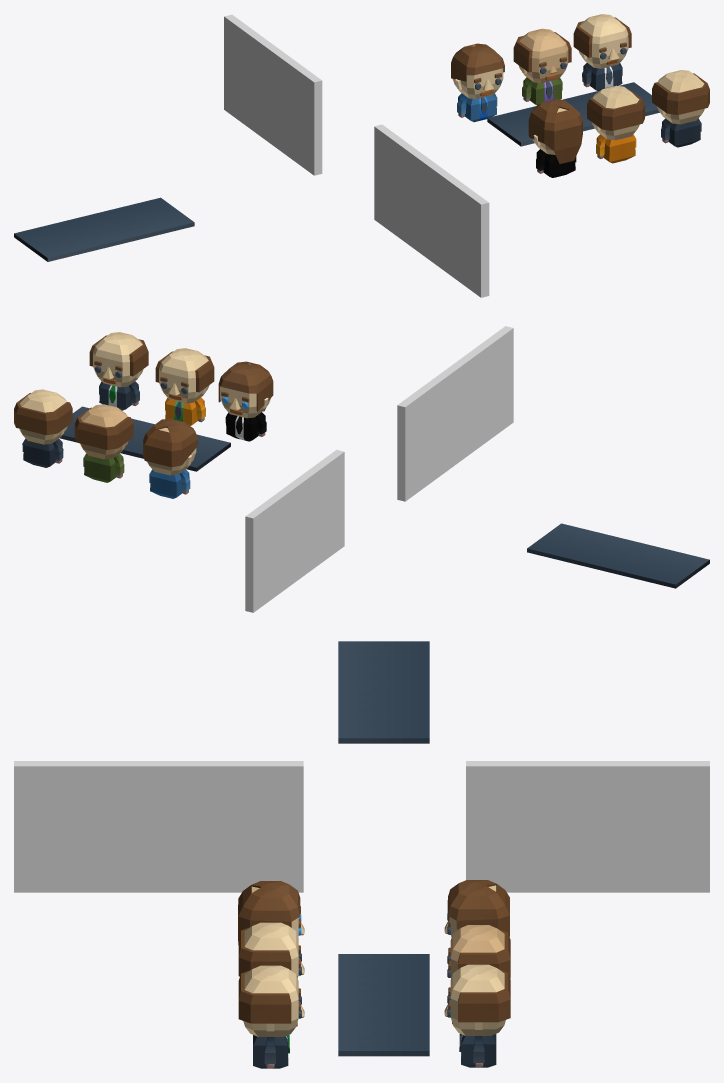
Rendered from animated-characters.glb.
3 renders of one model, top to bottom at view 1: azimuth 30°, elevation 25°; view 2: azimuth 150°, elevation 25°; view 3: azimuth 270°, elevation 25°, orthographic. The views are drawn at different scales.
Visible parts, largest first — view 1: Cube.002, Cube.008, Cube.007, Cube.005, Cube.006, Cube.004, Cube, Cube.001, Cube.003; view 2: Cube.002, Cube.008, Cube, Cube.004, Cube.007, Cube.006, Cube.001, Cube.005, Cube.003; view 3: Cube.002, Cube.003, Cube.008, Cube.004, Cube.006, Cube.001, Cube.005, Cube.007, Cube.
Part boxes in pixels (x1,y1,x2,y2): Cube.002: (224, 14, 489, 297); Cube.008: (14, 197, 194, 261); Cube.007: (528, 99, 582, 177); Cube.005: (587, 85, 644, 163); Cube.006: (652, 70, 709, 147); Cube.004: (573, 14, 631, 90); Cube: (513, 28, 571, 105); Cube.001: (451, 43, 504, 122); Cube.003: (487, 82, 659, 146); Cube.002: (245, 326, 513, 612); Cube.008: (527, 523, 709, 588); Cube: (74, 404, 133, 482); Cube.004: (14, 389, 72, 467); Cube.007: (218, 361, 273, 441); Cube.006: (89, 332, 148, 410); Cube.001: (143, 418, 197, 498); Cube.005: (155, 348, 214, 425); Cube.003: (60, 406, 230, 471); Cube.002: (14, 761, 709, 892); Cube.003: (338, 954, 429, 1056); Cube.008: (338, 641, 429, 743); Cube.004: (444, 964, 510, 1067); Cube.006: (238, 965, 304, 1068); Cube.001: (444, 880, 509, 936); Cube.005: (238, 922, 304, 977); Cube.007: (238, 881, 304, 944); Cube: (447, 925, 510, 978).
Size of the model in its own units: 17.35 by 2.46 by 12.26.
1 material, 1 textured.
